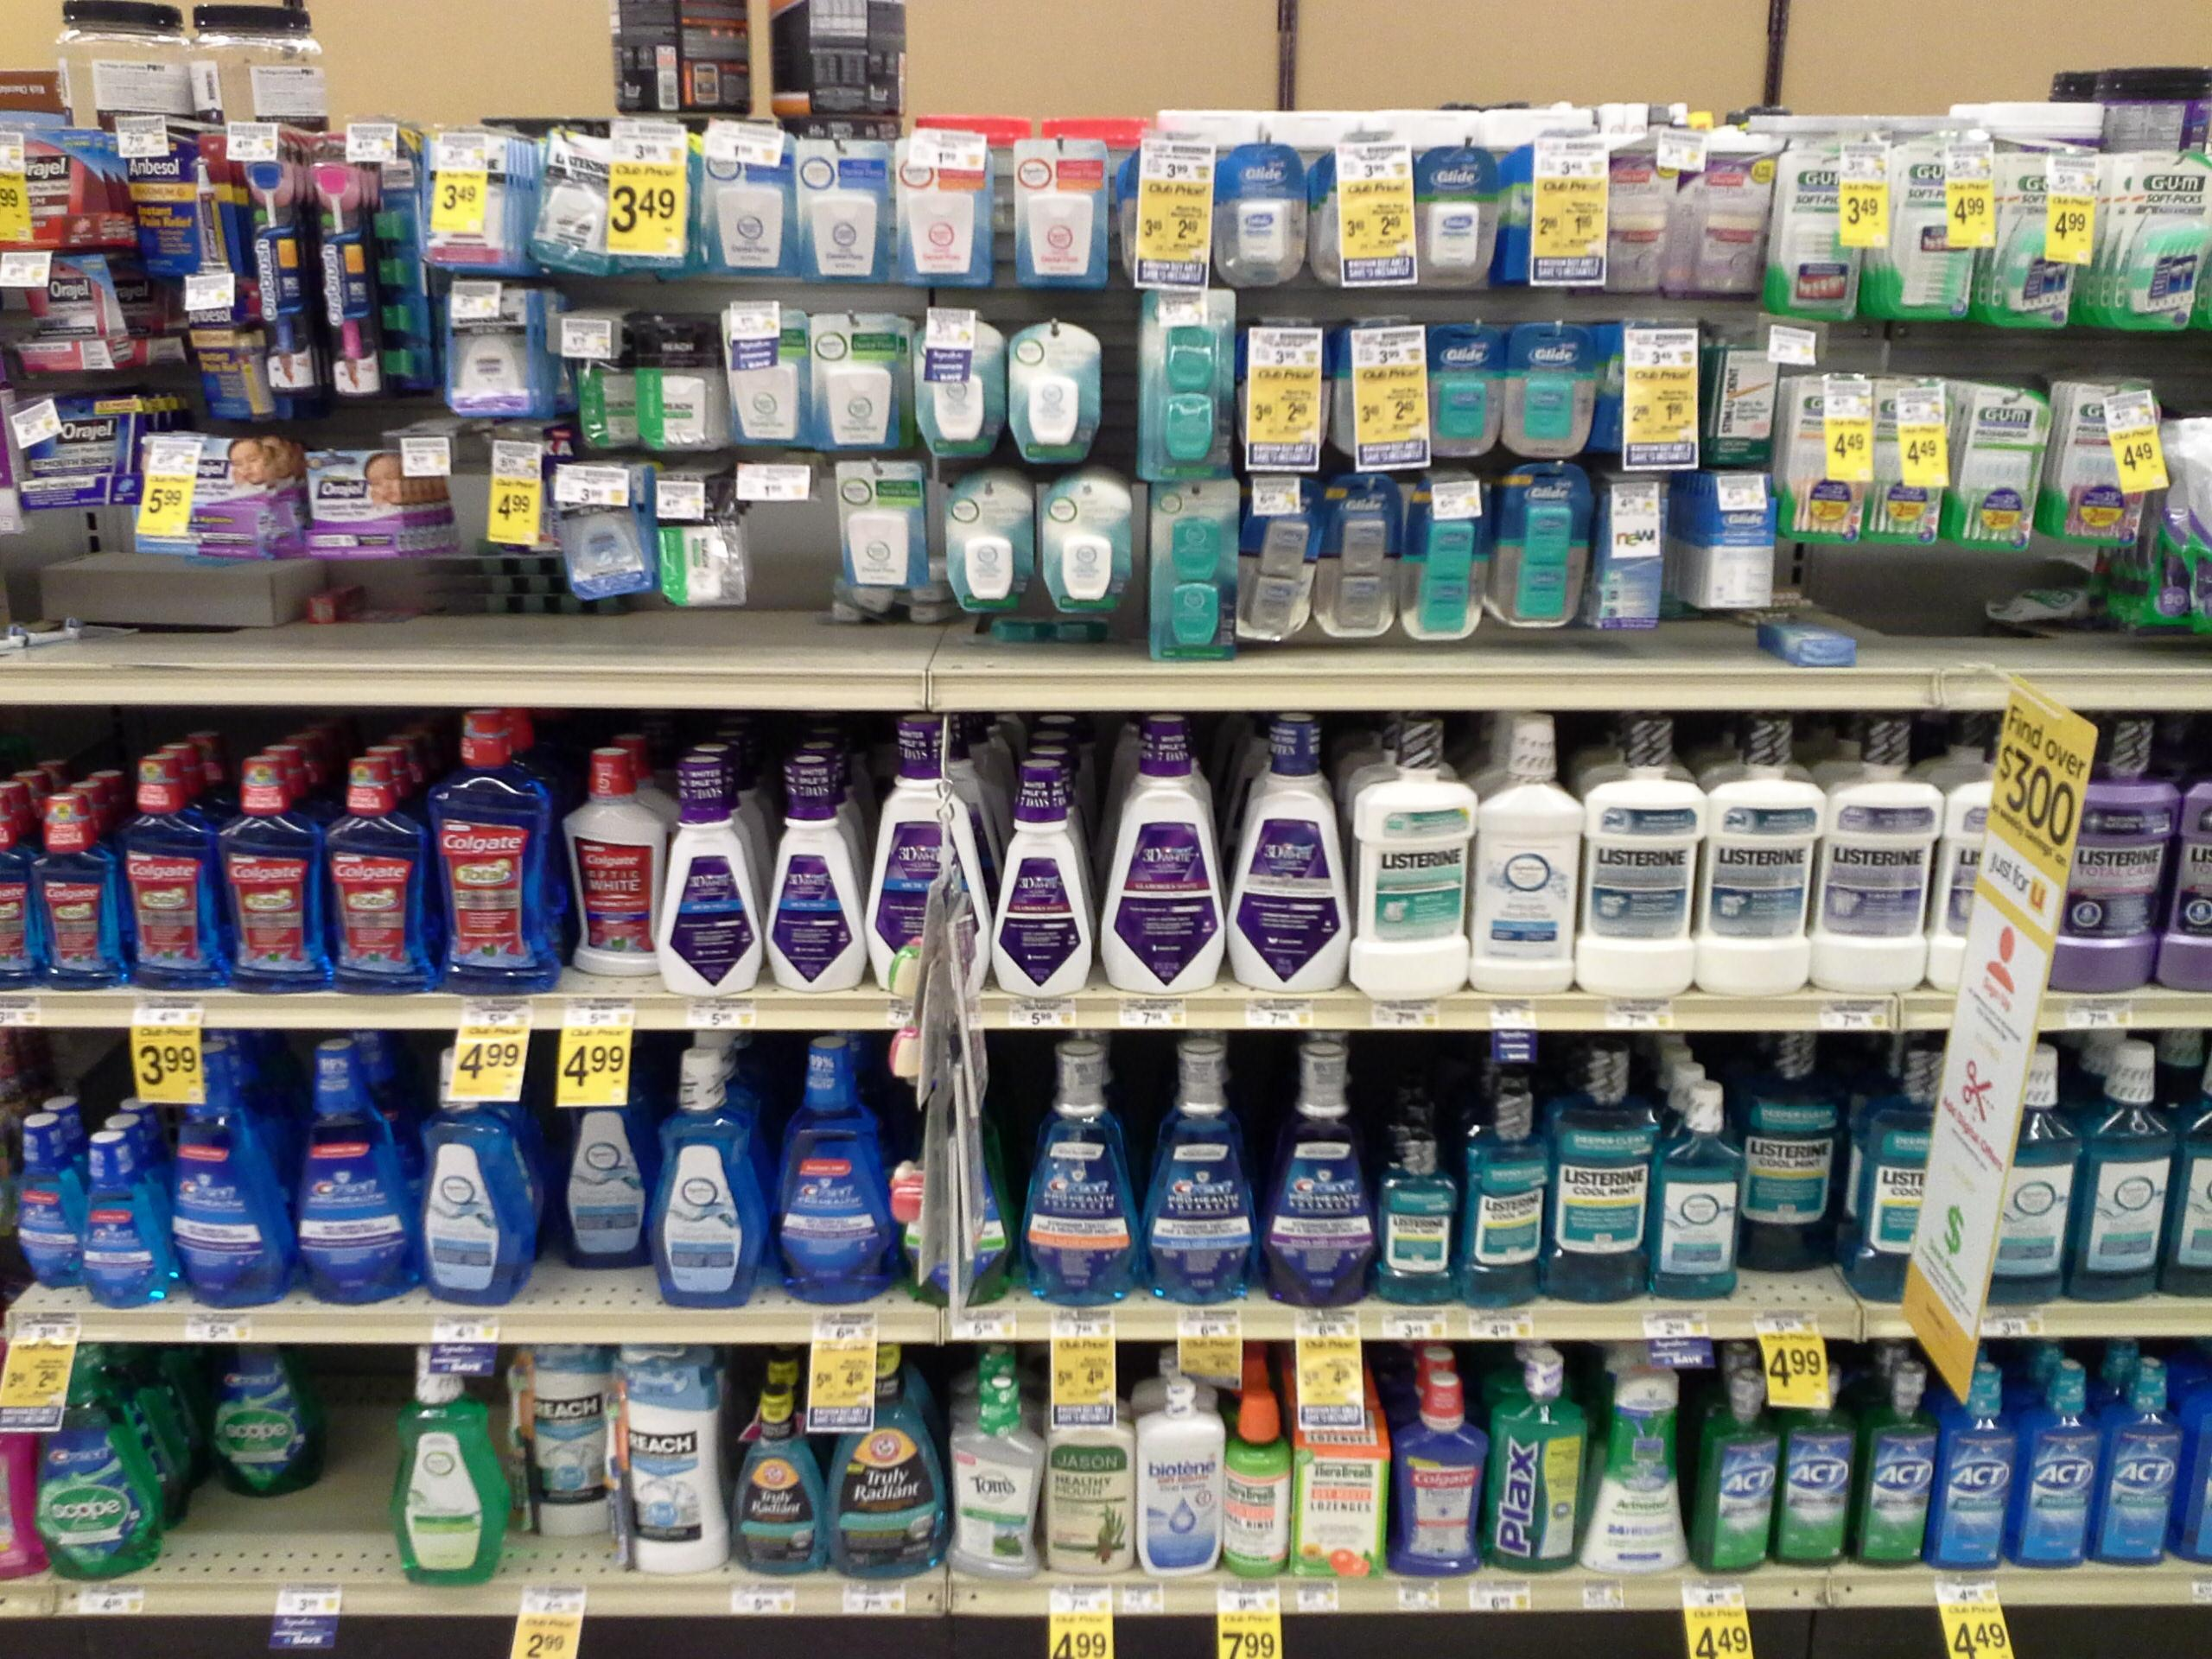misalignment: (1975, 559, 2097, 640), (0, 603, 138, 667), (979, 601, 1122, 659), (298, 575, 428, 634), (1754, 612, 1871, 671)
